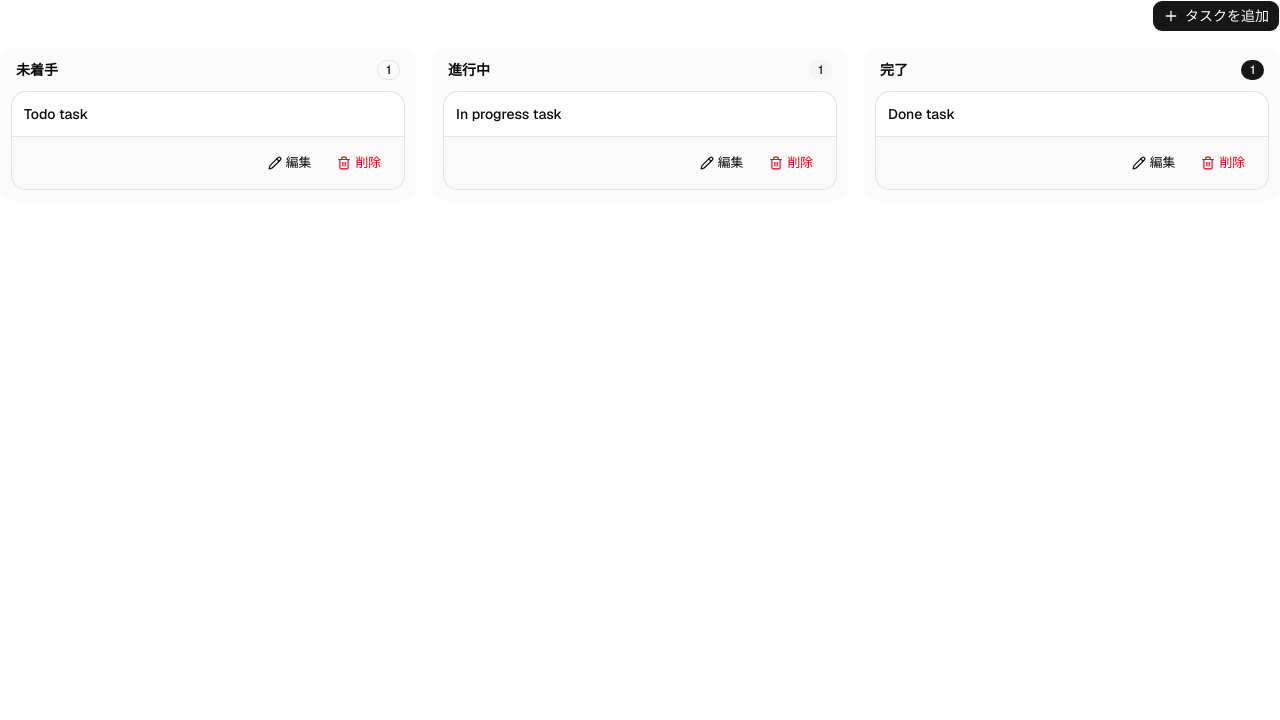
Test case: Board › opens the create form when Add Task is clicked
Click the button "タスクを追加".
click(1216, 16)  # box [1152,0,1279,32]
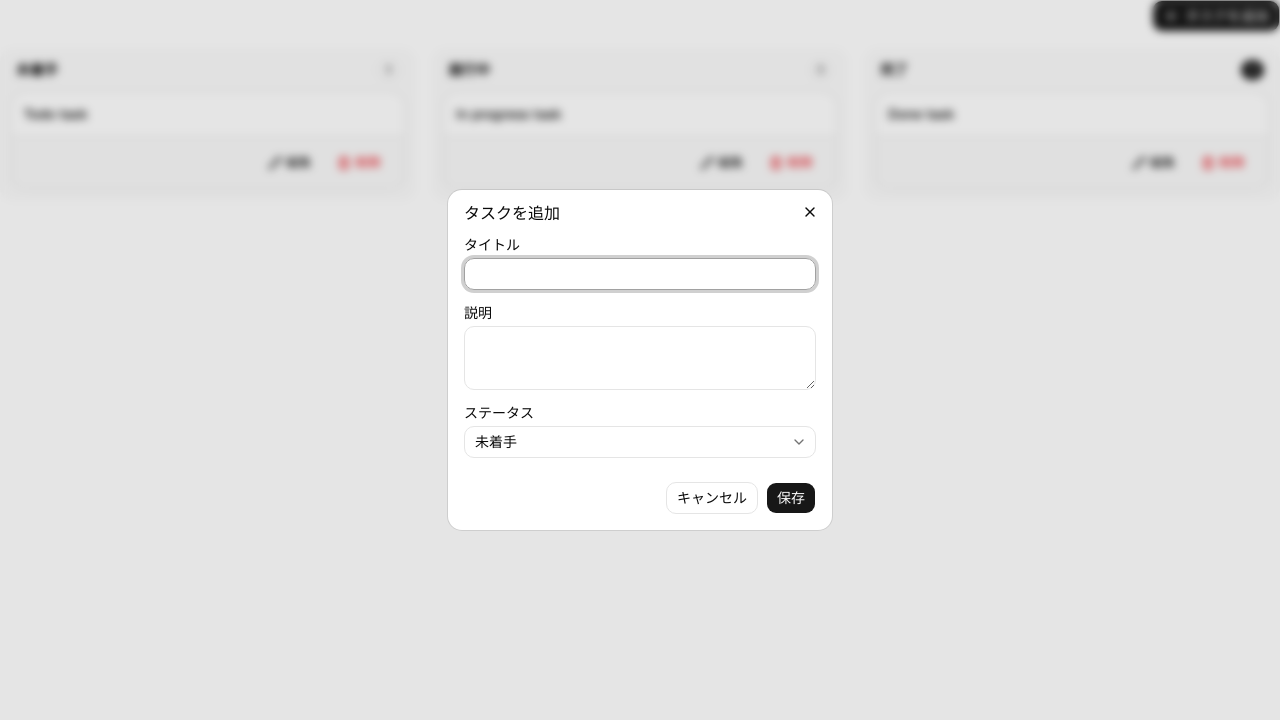
Expected: the field labelled "タイトル" is shown, [464,258,816,290]
